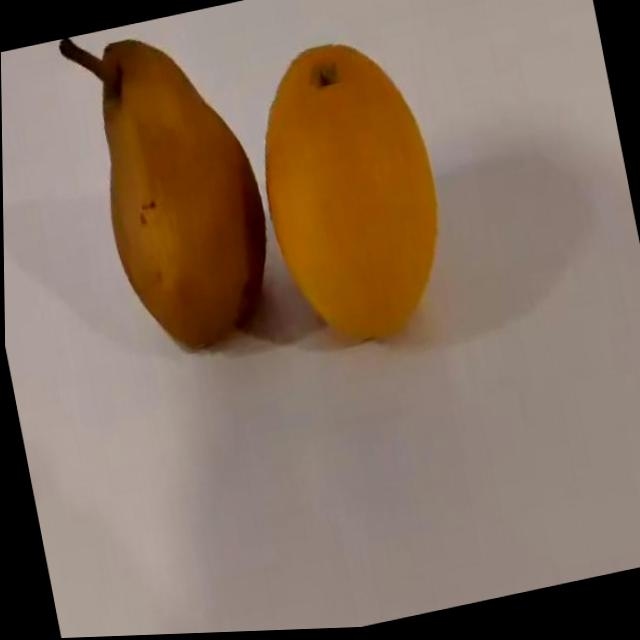Orange: (237, 27, 460, 360)
